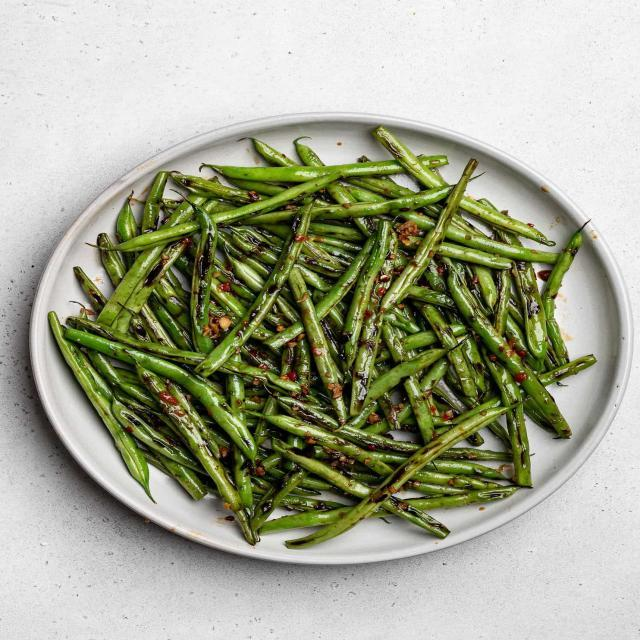Beans: (43, 130, 612, 544)
